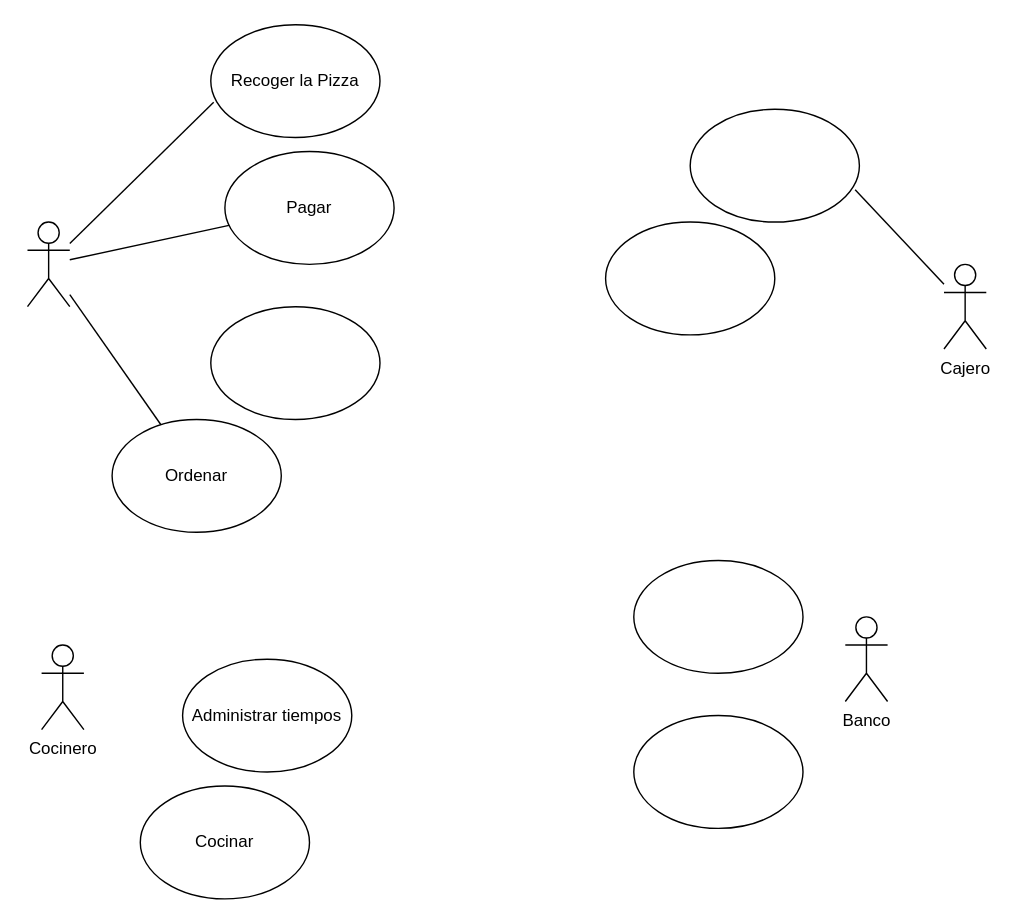
Image size: 1014x924. Some labels were removed from this diagram. The shapes that lost their labels are listed below. From the top down, each one's box as (x1, y1, x2, y2) in pixels, then its label:
(689, 108, 859, 222): Cobrar
(26, 221, 70, 307): cliente
